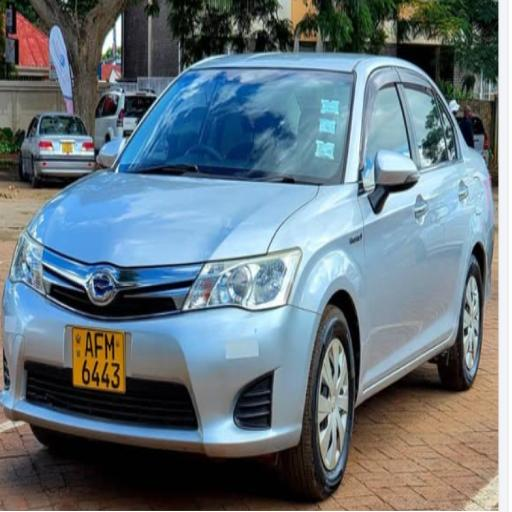number-plates: (72, 328, 127, 394)
